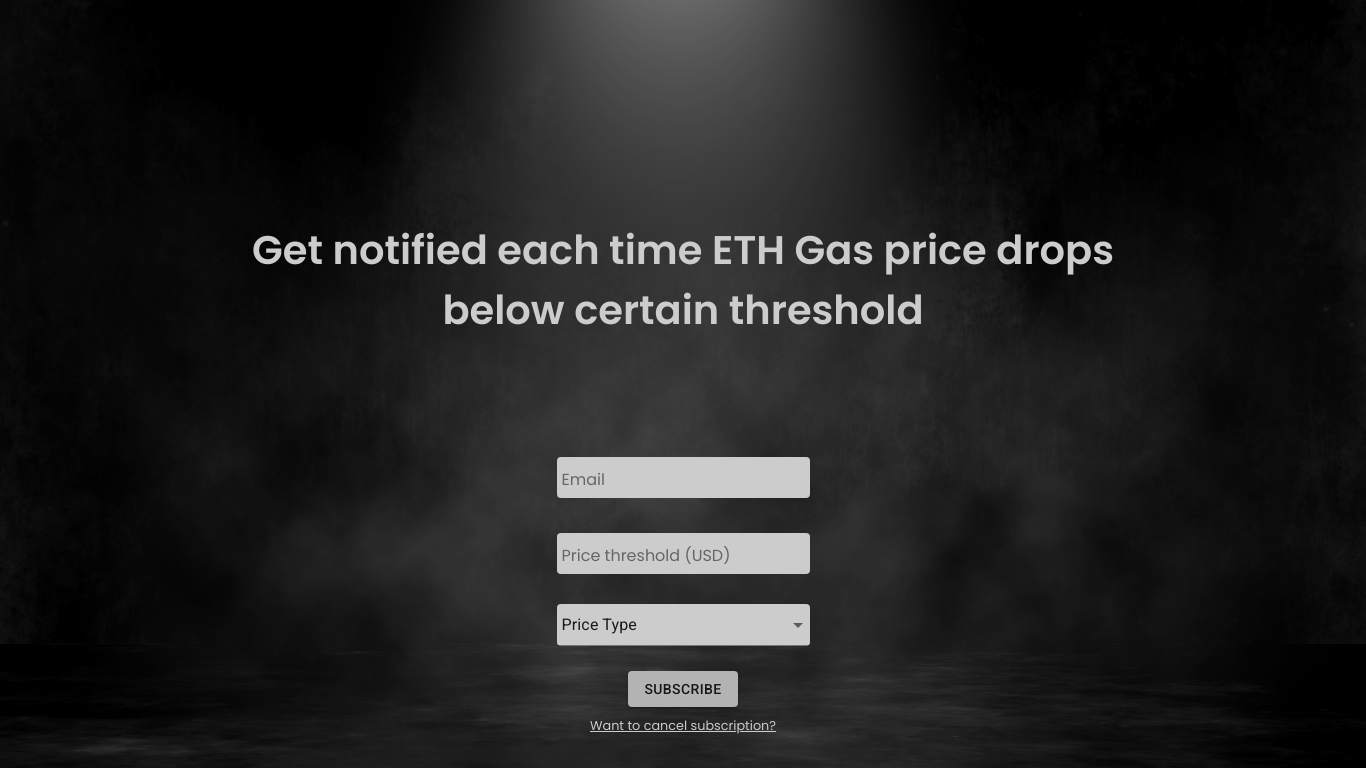
Scenario: app › shows cancelation form on unsubscription click
Click the text "Want to cancel subscription?" at [683, 726], box 590,717 -> 776,735
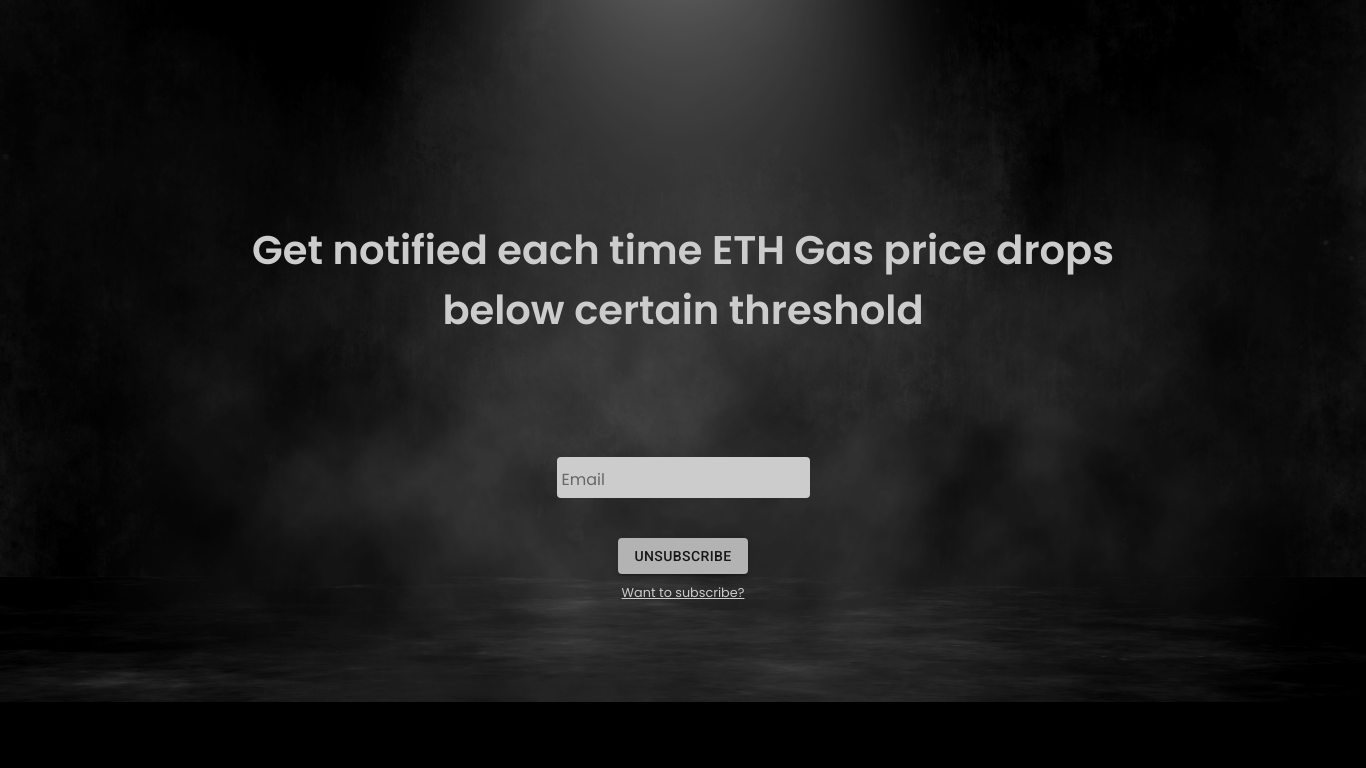
Check: the number of forms is 1, box 556,457 -> 810,574
